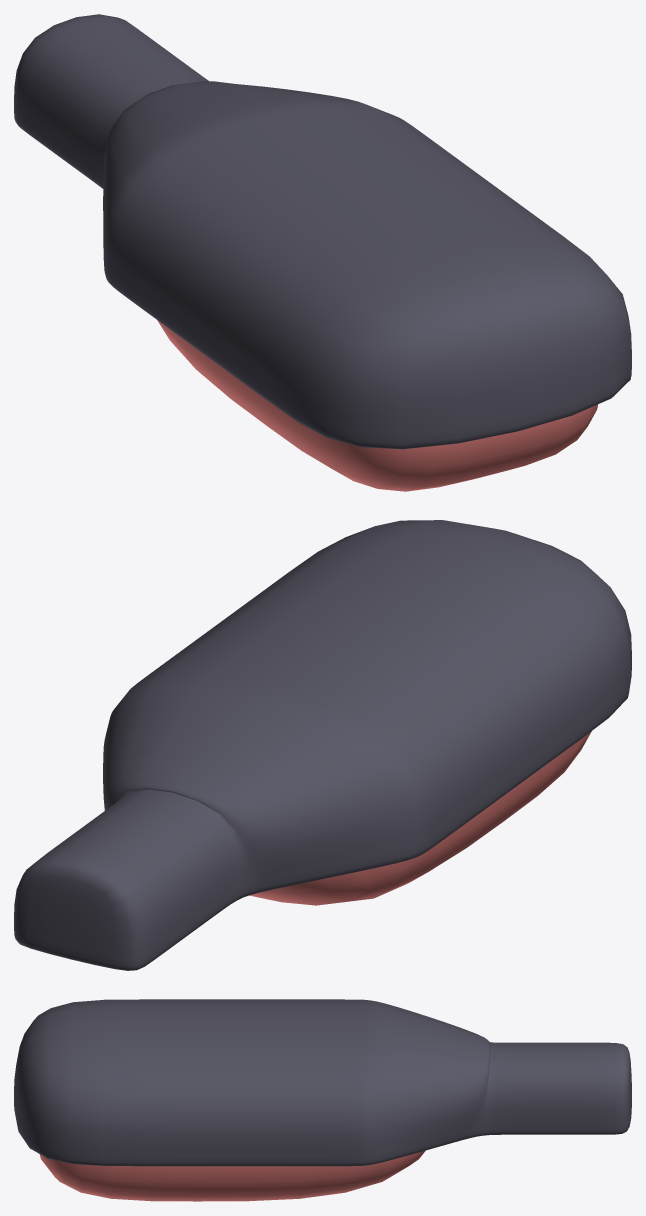
Rendered from Pillar_part_5_lantern.fbx.
3 views of the same model, one above another, from view 1: azimuth 30°, elevation 25°; view 2: azimuth 150°, elevation 25°; view 3: azimuth 270°, elevation 25° (orthographic). The views are drawn at different scales.
Visible parts, largest first — view 1: Pillar_part_5_lantern; view 2: Pillar_part_5_lantern; view 3: Pillar_part_5_lantern.
Boxes of the visible parts, box(x1,y1,x2,y2) form: Pillar_part_5_lantern: box(14, 14, 631, 491); Pillar_part_5_lantern: box(14, 520, 631, 970); Pillar_part_5_lantern: box(14, 999, 631, 1201).
Size of the model in its own units: 34.67 by 23.31 by 84.87.
